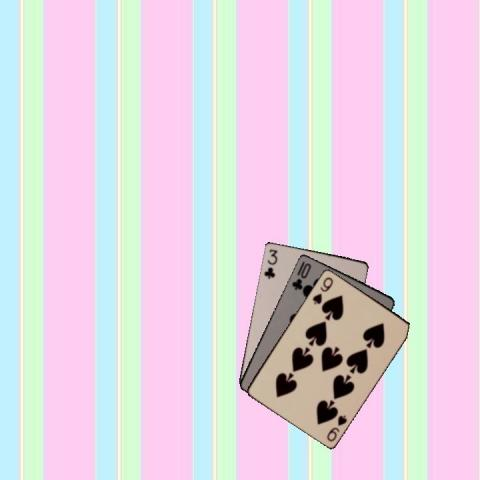10c: (288, 260, 313, 292)
3c: (260, 246, 278, 280)
9s: (309, 274, 335, 306), (323, 411, 348, 443)
